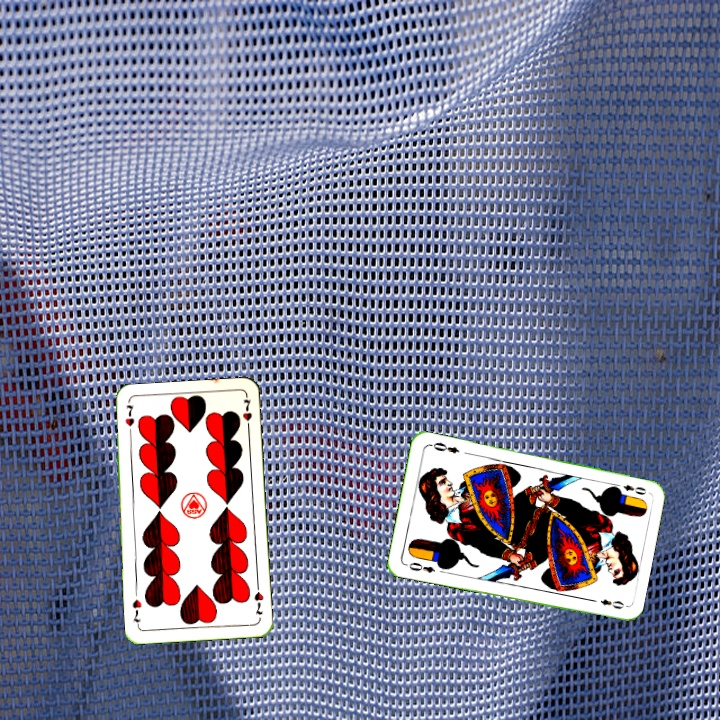EO: (609, 480, 649, 498), (402, 558, 437, 575)
H7: (250, 580, 266, 617), (121, 401, 135, 440)
